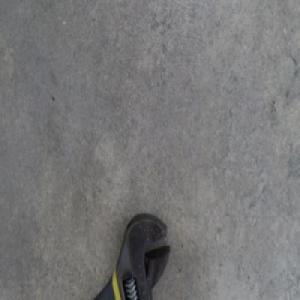AdjustableWrench: (95, 214, 171, 299)
